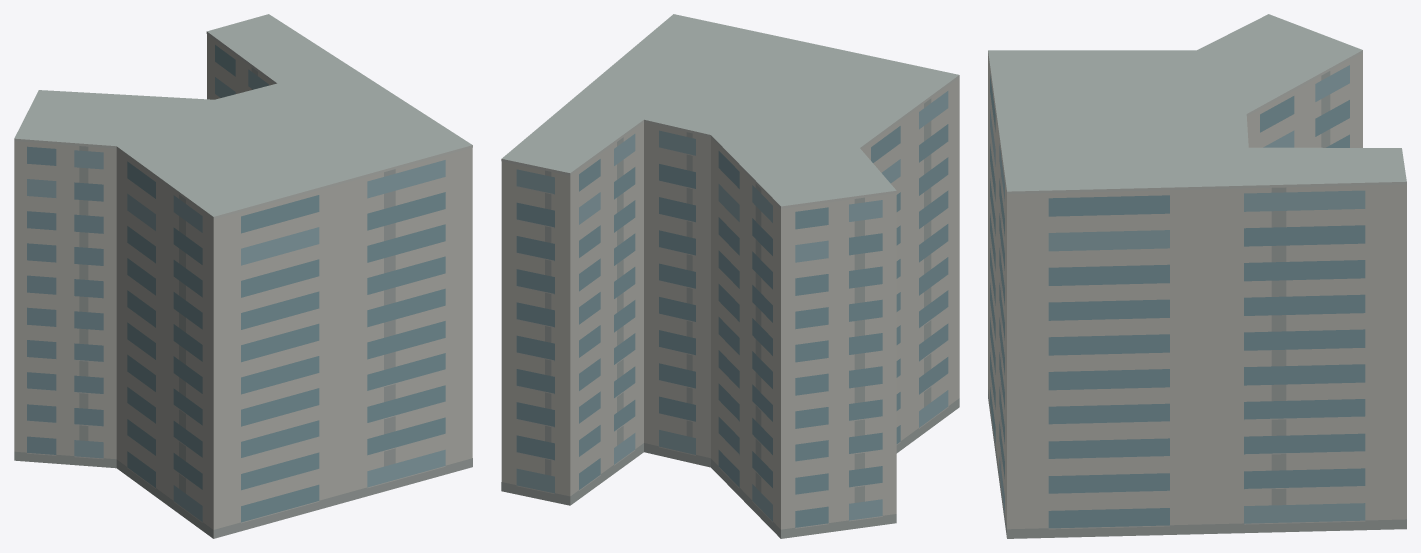
The model's file is residential-adeb3341-d0f5-4679-929d-48e73287bc25.glb.
3 renders of one model, left to right at view 1: azimuth 30°, elevation 25°; view 2: azimuth 150°, elevation 25°; view 3: azimuth 270°, elevation 25°, orthographic. The views are drawn at different scales.
Parts seen in each view (by area): view 1: residential-adeb3341-d0f5-4679-929d-48e73287bc25.tmp; view 2: residential-adeb3341-d0f5-4679-929d-48e73287bc25.tmp; view 3: residential-adeb3341-d0f5-4679-929d-48e73287bc25.tmp.
Boxes of the visible parts, x1,y1,x2,y2 form: residential-adeb3341-d0f5-4679-929d-48e73287bc25.tmp: (14, 14, 472, 538); residential-adeb3341-d0f5-4679-929d-48e73287bc25.tmp: (501, 14, 959, 538); residential-adeb3341-d0f5-4679-929d-48e73287bc25.tmp: (988, 14, 1406, 538).
Size of the model in its own units: 34 by 31 by 33.89.
